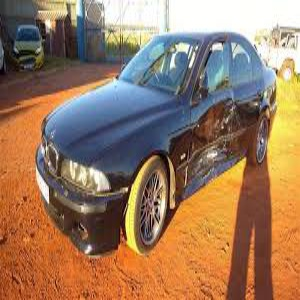door: (192, 102, 254, 176)
